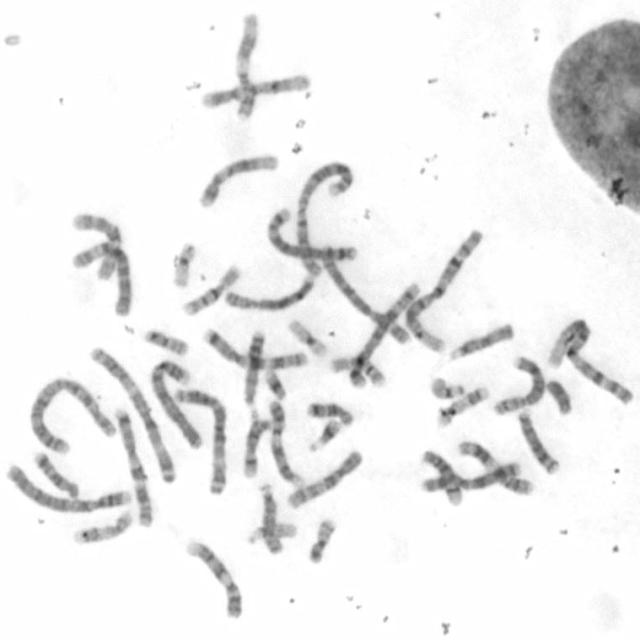A1: (400, 224, 485, 353), (547, 315, 635, 406)
A2: (291, 157, 357, 280), (24, 372, 118, 456)
A3: (86, 342, 179, 483), (170, 384, 230, 497)
B4: (2, 458, 132, 517), (147, 356, 205, 451)
B5: (346, 277, 422, 390), (262, 204, 360, 264)
C10: (282, 446, 364, 510), (67, 206, 124, 280)
C11: (456, 435, 536, 497), (230, 7, 261, 125)
C12: (195, 148, 280, 210), (198, 69, 311, 110)
C6: (318, 244, 411, 348), (68, 234, 134, 318)
C7: (112, 402, 155, 530), (199, 324, 309, 372)
C8: (221, 270, 318, 314), (488, 352, 546, 418)
C9: (183, 535, 244, 621), (266, 396, 305, 489)
D13: (514, 406, 561, 476), (240, 327, 268, 407)
D14: (418, 446, 464, 508), (239, 413, 273, 479)
D15: (448, 319, 518, 362), (256, 479, 285, 557)
E16: (178, 260, 243, 317), (325, 352, 388, 388)
E17: (434, 384, 492, 430), (69, 507, 135, 546)
E18: (30, 446, 80, 499), (304, 397, 354, 428)
F19: (284, 315, 329, 359), (168, 238, 198, 290)
F20: (305, 512, 340, 565), (140, 324, 191, 356)
G21: (304, 415, 342, 454), (262, 366, 288, 402)
G22: (244, 519, 299, 549), (428, 374, 467, 401)
X: (419, 458, 524, 496)
Y: (544, 375, 573, 416)
